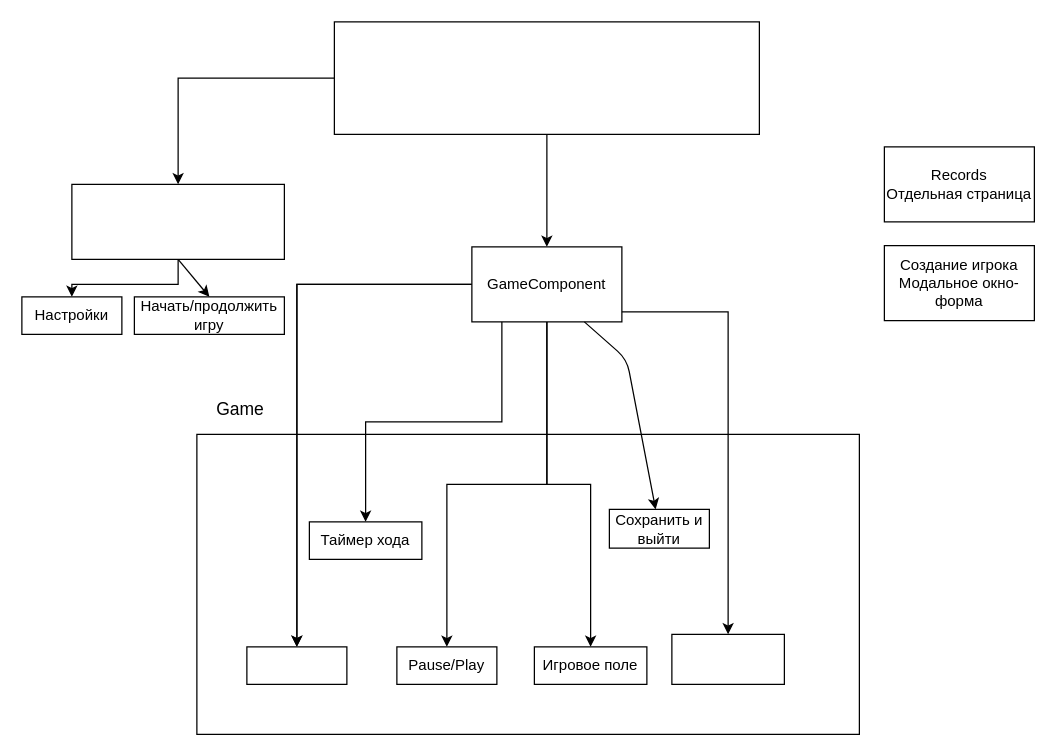
The diagram is 1056 pixels wide and 756 high, and some of its shapes have lost their labels. The shapes that lost their labels are listed below. From the top down, each one's centre as x and y in pixels, then its label:
At [546,77]: "DomListener 1. Добавление слушателей событий 2. Удаление слушателей событий".
At [177,221]: "DashBoard (Settings) Component".
At [296,665]: "Текущий счёт".
At [727,658]: "Карточка игрока".
